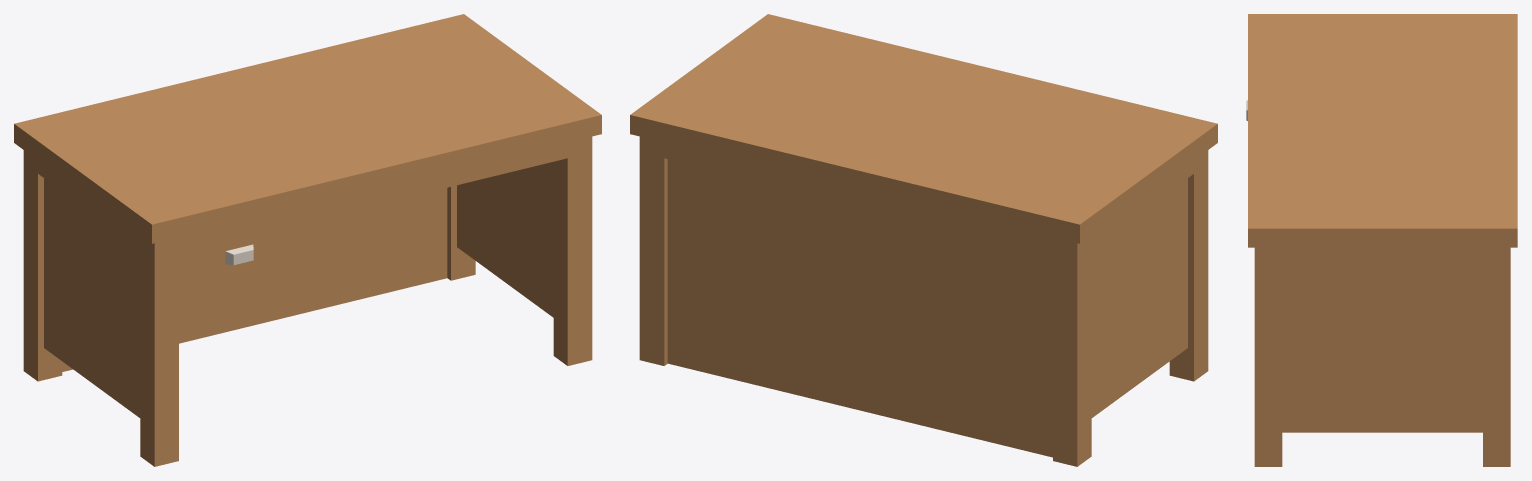
Rendered from kitDesk.glb.
3 renders of one model, left to right at view 1: azimuth 30°, elevation 25°; view 2: azimuth 150°, elevation 25°; view 3: azimuth 270°, elevation 25°, orthographic. The views are drawn at different scales.
Visible parts, largest first — view 1: kitDesk_wood; view 2: kitDesk_wood; view 3: kitDesk_wood.
Part boxes in pixels (x1,y1,x2,y2): kitDesk_wood: (14, 14, 601, 466); kitDesk_wood: (630, 14, 1217, 466); kitDesk_wood: (1248, 14, 1517, 466).
Size of the model in its own units: 1.47 by 0.7688 by 0.7846.
